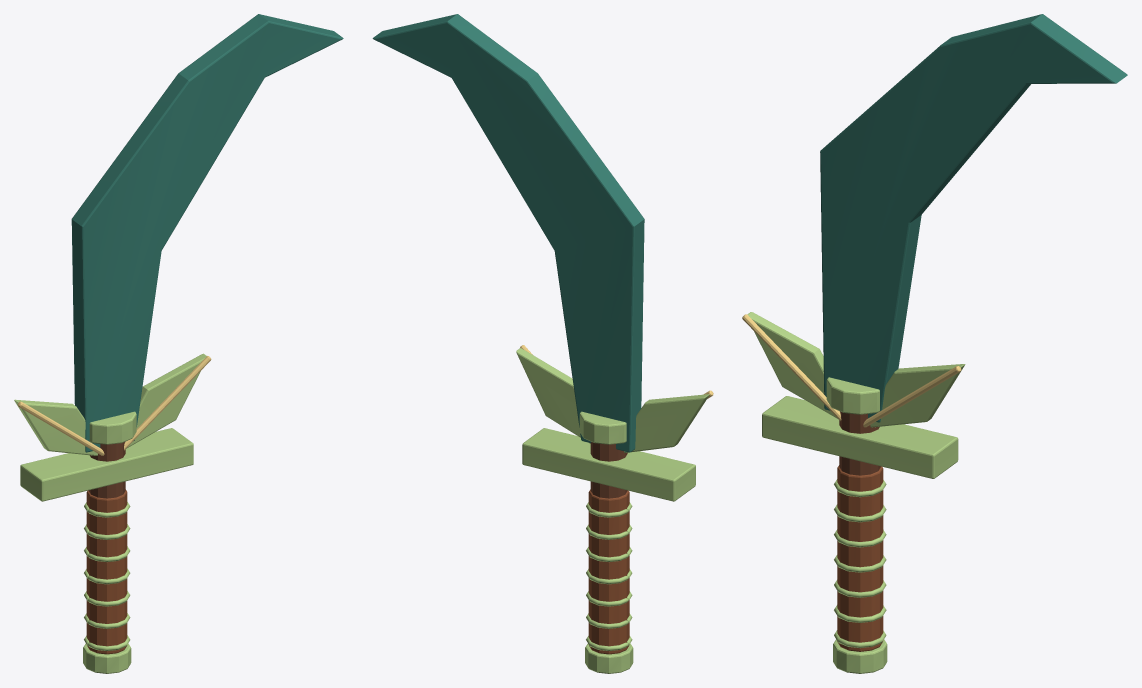
Rendered from item_004.glb.
The picture shows the model from 3 angles, left to right: view 1: azimuth 30°, elevation 25°; view 2: azimuth 150°, elevation 25°; view 3: azimuth 330°, elevation 25°; orthographic projection. The views are drawn at different scales.
Visible parts, largest first — view 1: Item_004_reed_sickle; view 2: Item_004_reed_sickle; view 3: Item_004_reed_sickle.
Part boxes in pixels (bbox=[...]): Item_004_reed_sickle: bbox=[14, 14, 343, 673]; Item_004_reed_sickle: bbox=[372, 14, 713, 673]; Item_004_reed_sickle: bbox=[742, 14, 1127, 673].
Size of the model in its own units: 0.8609 by 1.52 by 0.1344.
